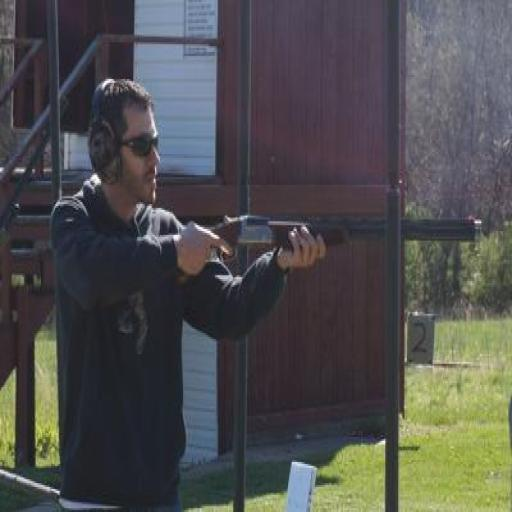shooting: (49, 75, 329, 510)
